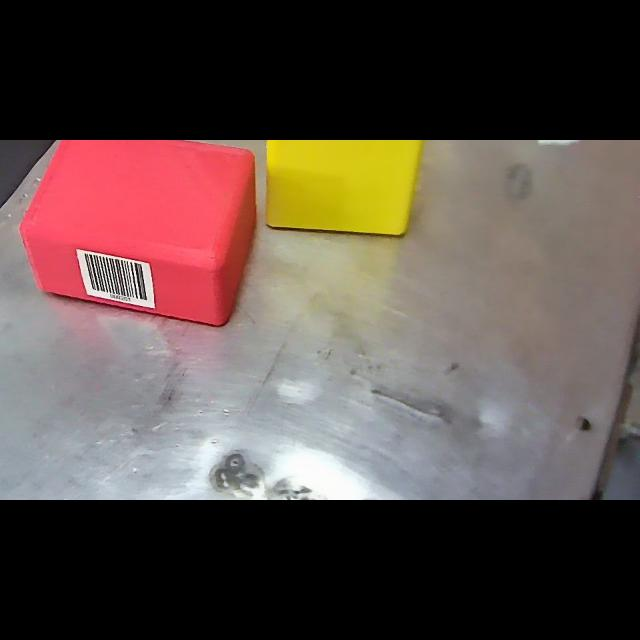redBox: (16, 140, 260, 334)
yellowBox: (264, 140, 438, 246)
